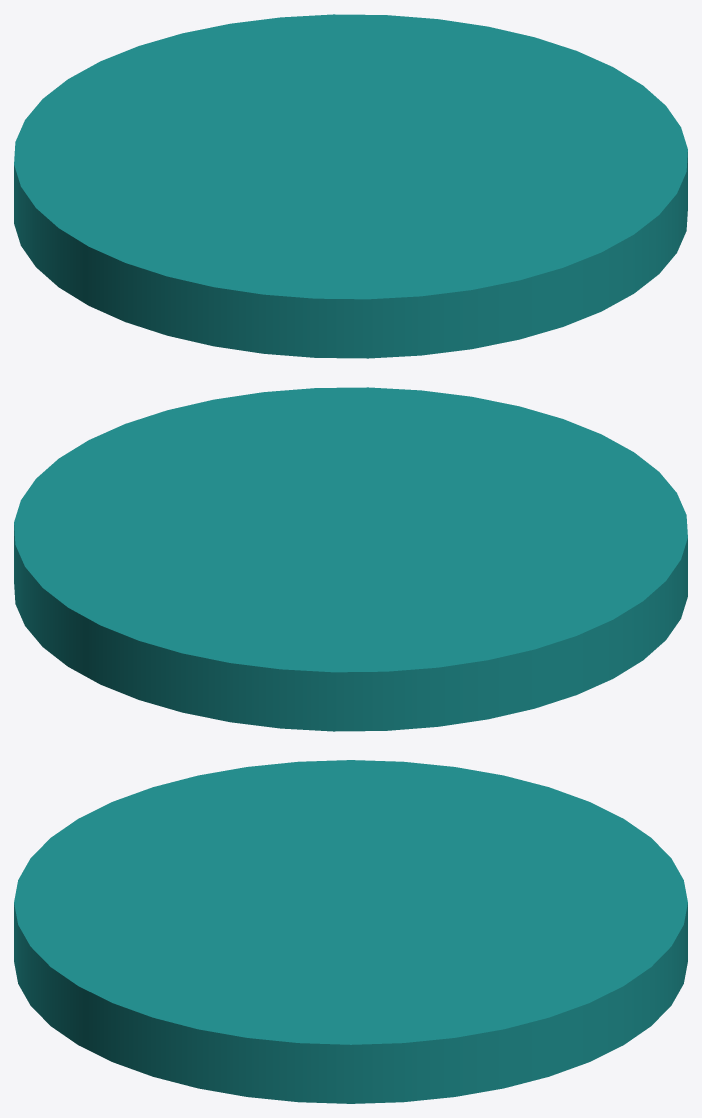
The model's file is original-27.obj.
The picture shows the model from 3 angles, top to bottom: view 1: azimuth 30°, elevation 25°; view 2: azimuth 150°, elevation 25°; view 3: azimuth 270°, elevation 25°; orthographic projection.
Parts seen in each view (by area): view 1: Group_79_2/mesh66/mesh66-geometry#mesh66-geometry; view 2: Group_79_2/mesh66/mesh66-geometry#mesh66-geometry; view 3: Group_79_2/mesh66/mesh66-geometry#mesh66-geometry.
Boxes of the visible parts, bbox=[...] form: Group_79_2/mesh66/mesh66-geometry#mesh66-geometry: bbox=[14, 14, 687, 358]; Group_79_2/mesh66/mesh66-geometry#mesh66-geometry: bbox=[14, 387, 687, 731]; Group_79_2/mesh66/mesh66-geometry#mesh66-geometry: bbox=[14, 760, 687, 1103].
Bounding box in the file's own units: 0.1283 × 0.0124 × 0.1283.
